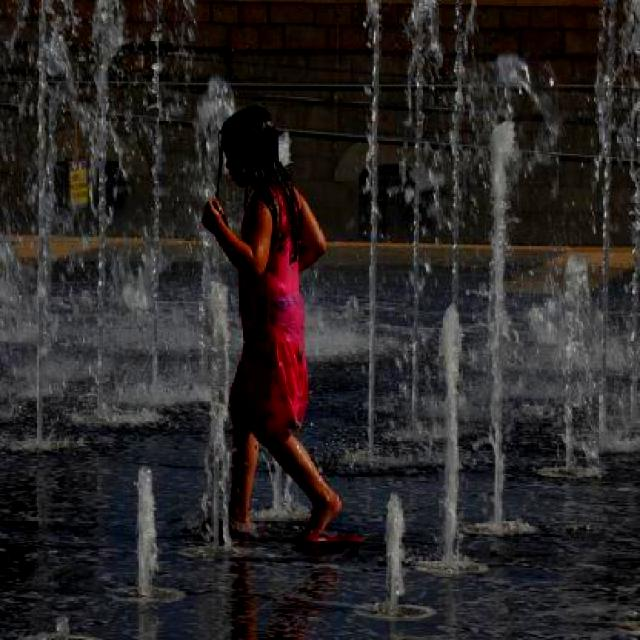Person: (199, 104, 341, 542)
